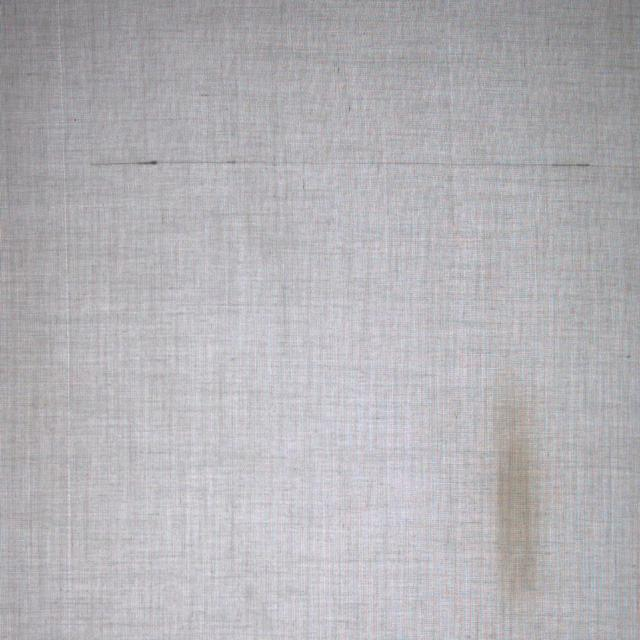dirty: (496, 425, 534, 584)
